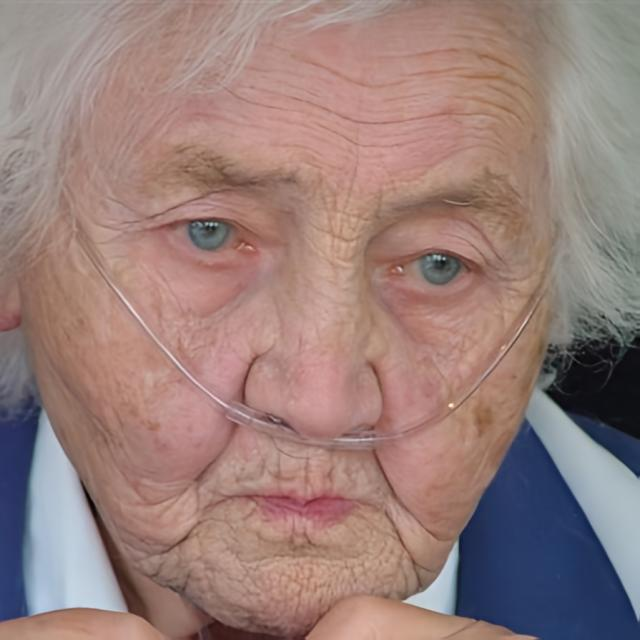sad: (20, 0, 558, 634)
